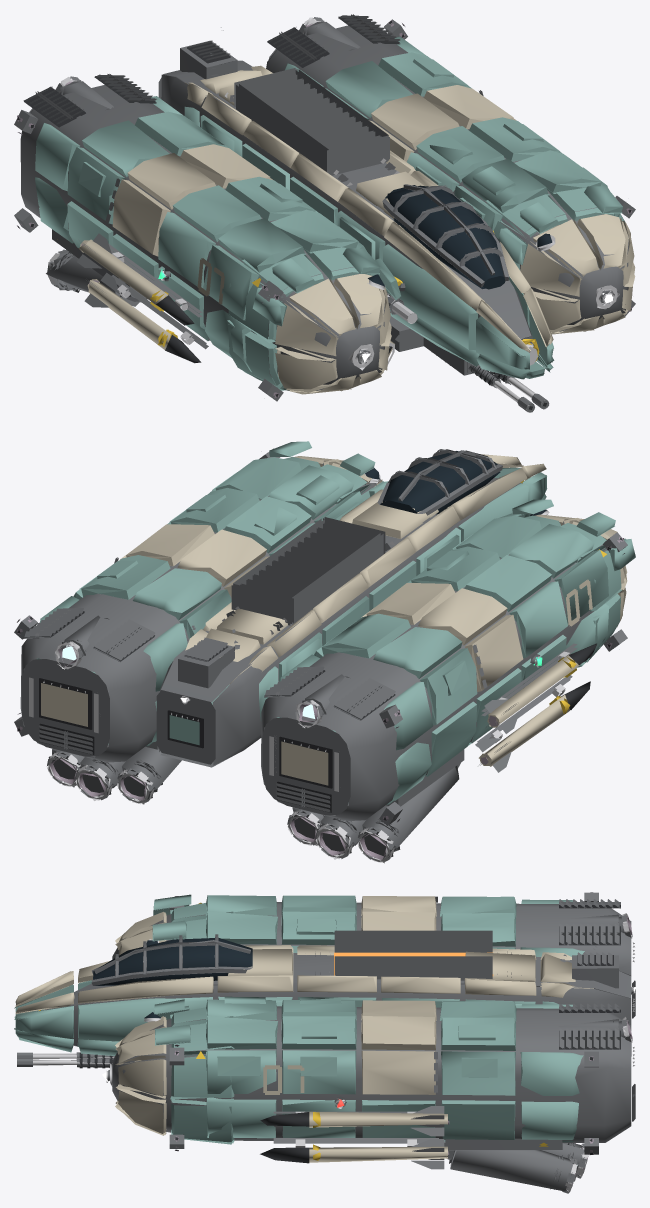
Rendered from interceptor_lod.glb.
3 views of the same model, one above another, from view 1: azimuth 30°, elevation 25°; view 2: azimuth 150°, elevation 25°; view 3: azimuth 270°, elevation 25° (orthographic). The views are drawn at different scales.
Parts seen in each view (by area): view 1: interceptor; view 2: interceptor; view 3: interceptor.
Boxes of the visible parts, bbox=[...] form: interceptor: bbox=[14, 14, 635, 412]; interceptor: bbox=[14, 441, 635, 863]; interceptor: bbox=[14, 892, 635, 1193].
Bounding box in the file's own units: 5.56 × 2.57 × 7.8.
